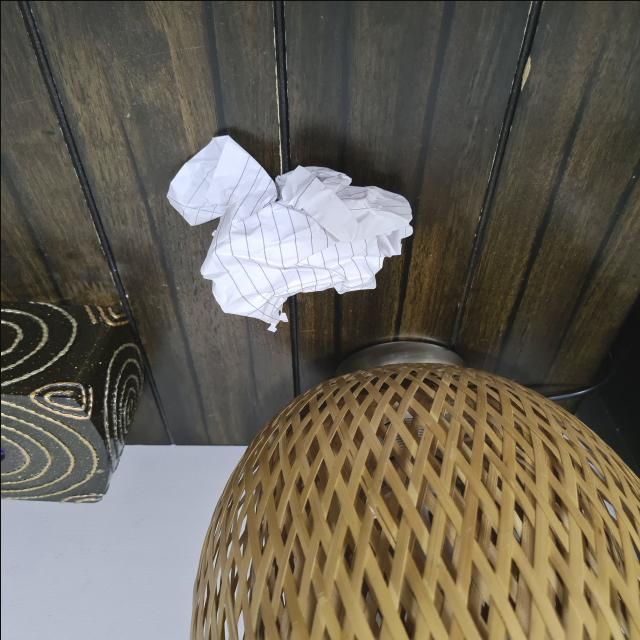Paper: (162, 134, 418, 327)
